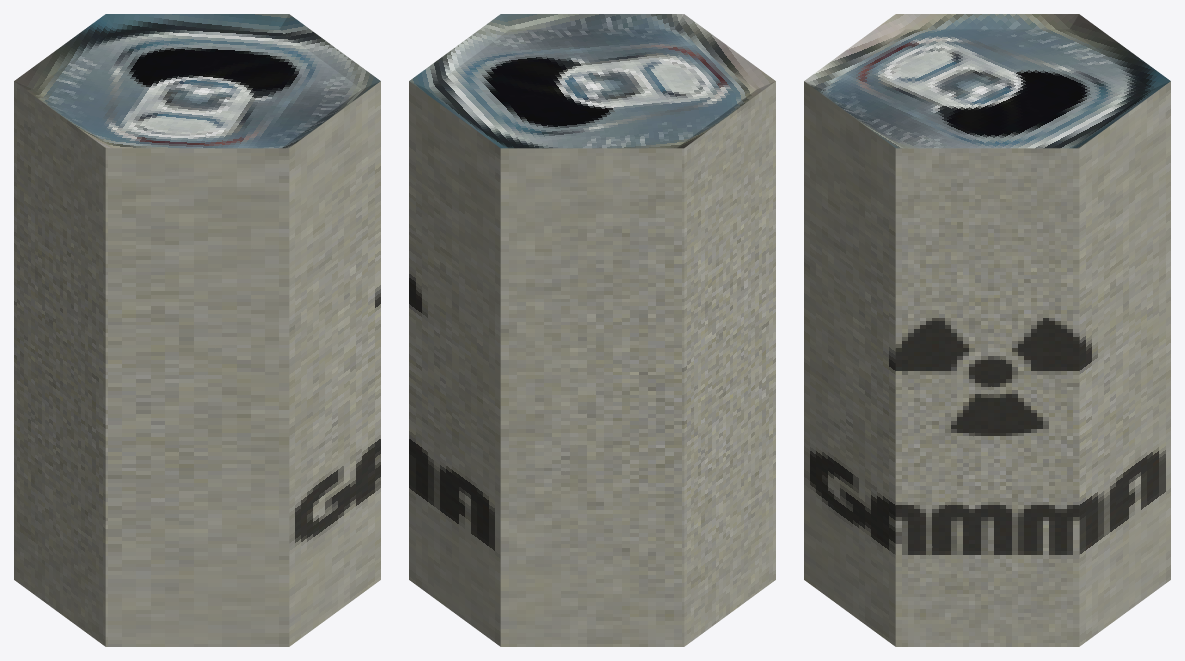
The model's file is gammacan.glb.
The picture shows the model from 3 angles, left to right: view 1: azimuth 30°, elevation 25°; view 2: azimuth 150°, elevation 25°; view 3: azimuth 270°, elevation 25°; orthographic projection.
Visible parts, largest first — view 1: Circle; view 2: Circle; view 3: Circle.
Boxes of the visible parts, left/top/right/bottom form: Circle: left=14, top=14, right=380, bottom=646; Circle: left=409, top=14, right=775, bottom=646; Circle: left=804, top=14, right=1170, bottom=646.
Bounding box in the file's own units: 1.73 × 3 × 2.
Materials: 1 (1 with a texture image).
